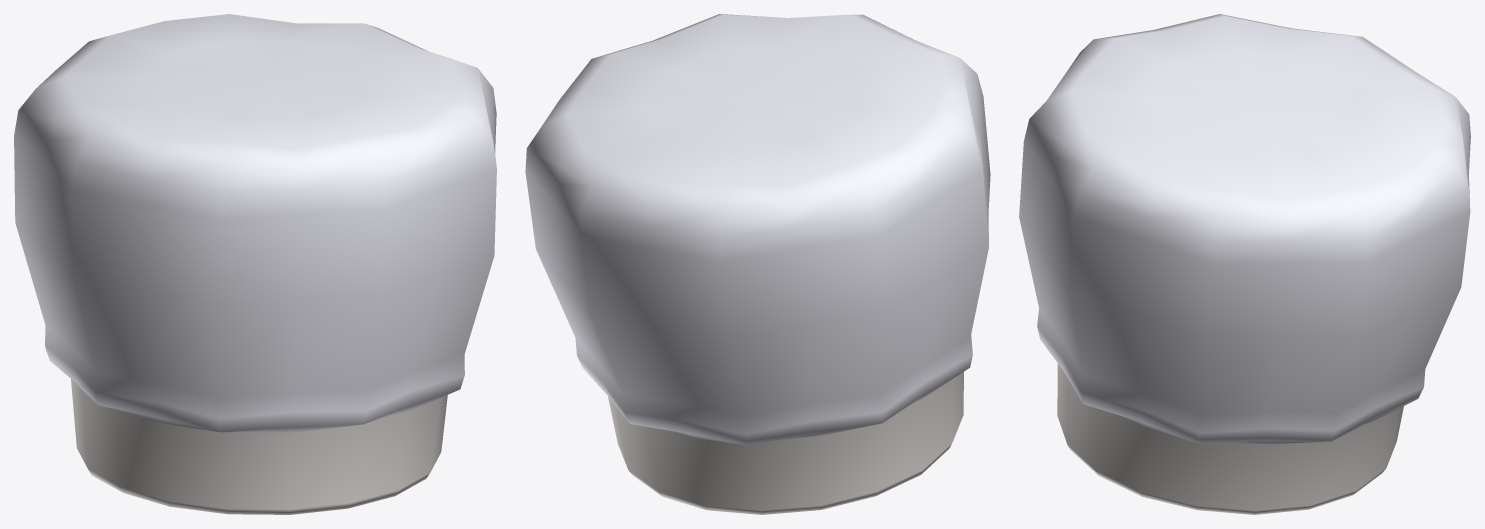
Rendered from Hat_39_01.fbx.
3 renders of one model, left to right at view 1: azimuth 30°, elevation 25°; view 2: azimuth 150°, elevation 25°; view 3: azimuth 270°, elevation 25°, orthographic. The views are drawn at different scales.
Parts seen in each view (by area): view 1: Hat_39_01; view 2: Hat_39_01; view 3: Hat_39_01.
Part boxes in pixels (x1,y1,x2,y2): Hat_39_01: (14,14,496,514); Hat_39_01: (525,14,990,514); Hat_39_01: (1019,14,1470,514).
Size of the model in its own units: 50.23 by 44.62 by 49.27.
